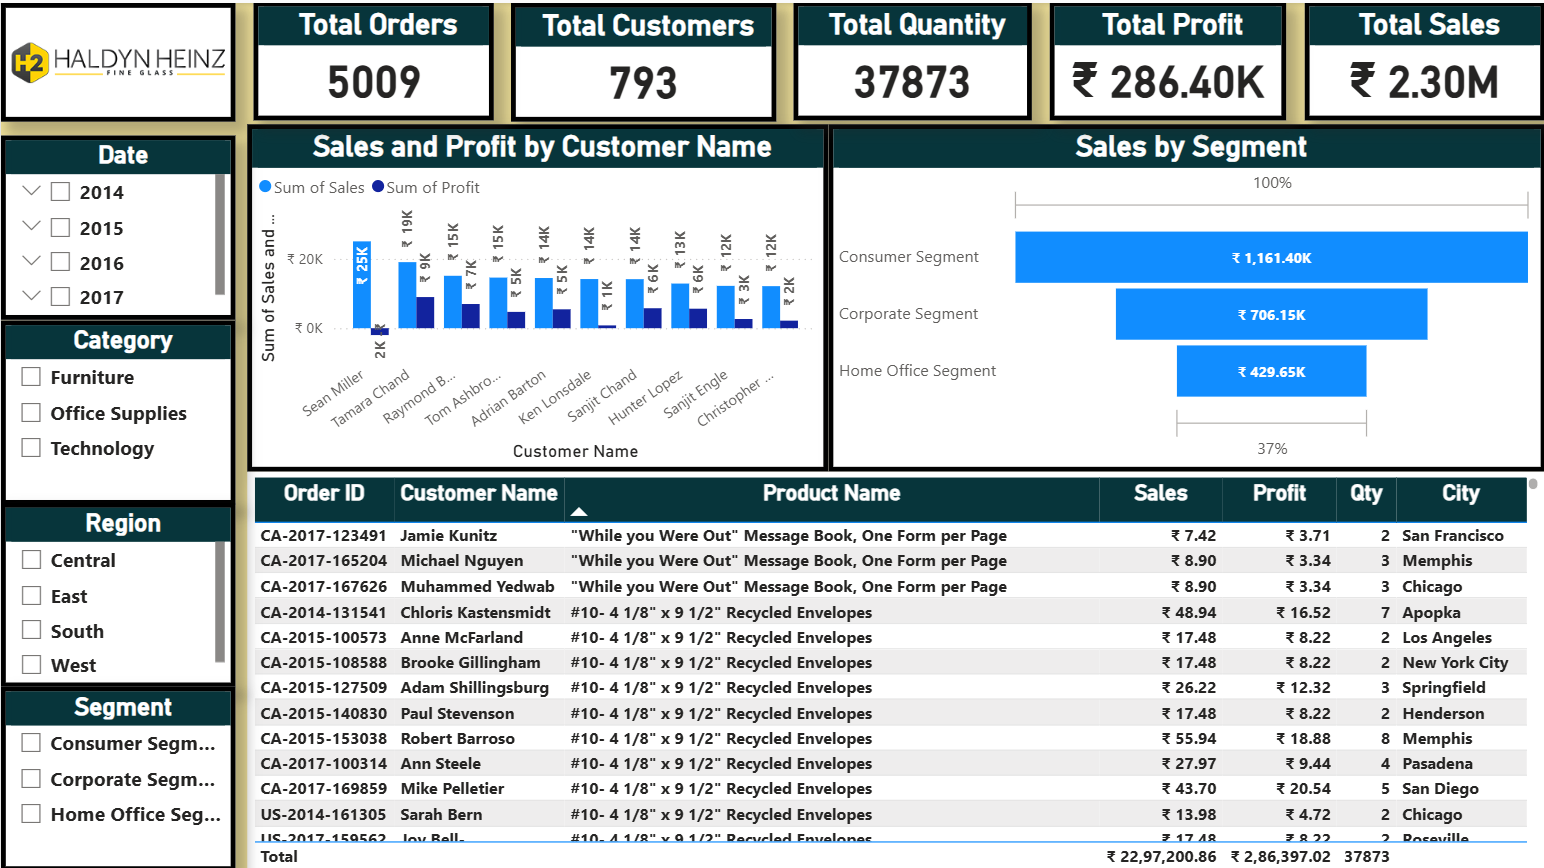

What the dashboard file says about the page in this screenshot:
{"tool":"powerbi","page":{"name":"Customer Analysis","canvas":[1280,720],"ordinal":5},"visuals":[{"type":"card","title":"Total Customers","fields":{"Values":["Orders.Customer ID"]},"box":[423,0,219.8,98.8],"z":0},{"type":"clusteredColumnChart","title":"Sales and Profit by Customer Name","fields":{"Category":["Orders.Customer Name"],"Y":["Orders.Sales","Orders.Profit"]},"box":[204.5,100.2,481.4,288],"z":1000},{"type":"funnel","title":"Sales by Segment","fields":{"Category":["Orders.Segment"],"Y":["Orders.Sales"]},"box":[685.9,100.2,594.1,288],"z":2000},{"type":"tableEx","fields":{"Values":["Orders.Order ID","Orders.Customer Name","Orders.Product Name","Orders.Sales","Orders.Profit","Orders.Quantity","Orders.City"]},"box":[204.5,388.2,1075.5,332.5],"z":3000},{"type":"image","box":[0,0,194.8,98.8],"z":4000},{"type":"slicer","title":"Date","fields":{"Values":["Orders.Order Date.Variation.Date Hierarchy.Year","Orders.Order Date.Variation.Date Hierarchy.Quarter","Orders.Order Date.Variation.Date Hierarchy.Month","Orders.Order Date.Variation.Date Hierarchy.Day"]},"box":[0,109.9,194.8,153],"z":5000},{"type":"slicer","title":"Category","fields":{"Values":["Orders.Category"]},"box":[0,263,194.8,153],"z":6000},{"type":"slicer","title":"Region","fields":{"Values":["Orders.Region"]},"box":[0,414.6,194.8,153],"z":7000},{"type":"slicer","title":"Segment","fields":{"Values":["Orders.Segment"]},"box":[0,567,194.8,153],"z":8000},{"type":"card","title":"Total Sales","fields":{"Values":["Orders.Sales"]},"box":[1080.5,-0.6,199,98.8],"z":9000},{"type":"card","title":"Total Quantity","fields":{"Values":["Orders.Quantity"]},"box":[657.5,-0.6,197.6,98.8],"z":10000},{"type":"card","title":"Total Orders","fields":{"Values":["Orders.Order ID"]},"box":[209.4,-0.6,199,98.8],"z":11000},{"type":"card","title":"Total Profit","fields":{"Values":["Orders.Profit"]},"box":[869.7,-0.6,196.2,98.8],"z":12000}]}

Visuals, with their boxes in screenshot pixels (x1, y1, x2, y2), scaled from the page's 1280x720 canvas onto the 1544x868 screenshot:
"Total Customers" card: [510,0,775,119]
"Sales and Profit by Customer Name" clusteredColumnChart: [247,121,827,468]
"Sales by Segment" funnel: [827,121,1543,468]
tableEx - Orders.Order ID x Orders.Customer Name: [247,468,1543,867]
image: [0,0,235,119]
"Date" slicer: [0,132,235,317]
"Category" slicer: [0,317,235,502]
"Region" slicer: [0,500,235,684]
"Segment" slicer: [0,684,235,867]
"Total Sales" card: [1303,0,1543,118]
"Total Quantity" card: [793,0,1031,118]
"Total Orders" card: [253,0,493,118]
"Total Profit" card: [1049,0,1286,118]
